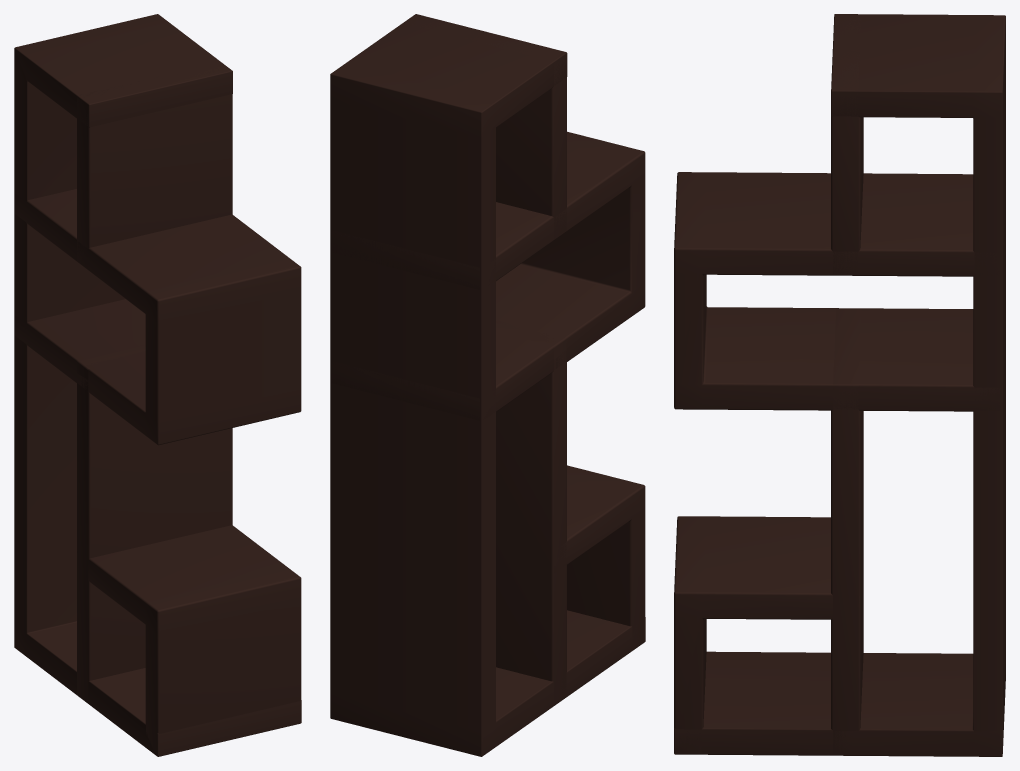
3 renders of one model, left to right at view 1: azimuth 30°, elevation 25°; view 2: azimuth 150°, elevation 25°; view 3: azimuth 270°, elevation 25°, orthographic. The views are drawn at different scales.
Visible parts, largest first — view 1: shelving; view 2: shelving; view 3: shelving.
Part boxes in pixels (x1,y1,x2,y2): shelving: (14,14,301,756); shelving: (330,14,645,756); shelving: (674,14,1005,756).
Size of the model in its own units: 0.4619 by 1.8 by 0.8136.
